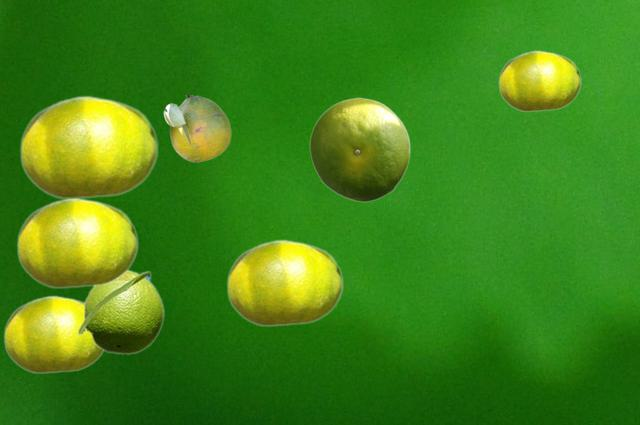dalandan: (19, 95, 157, 199), (16, 199, 137, 288), (309, 97, 409, 201), (226, 239, 342, 326), (3, 295, 103, 373), (76, 269, 164, 354), (498, 50, 580, 111), (163, 95, 230, 161)
